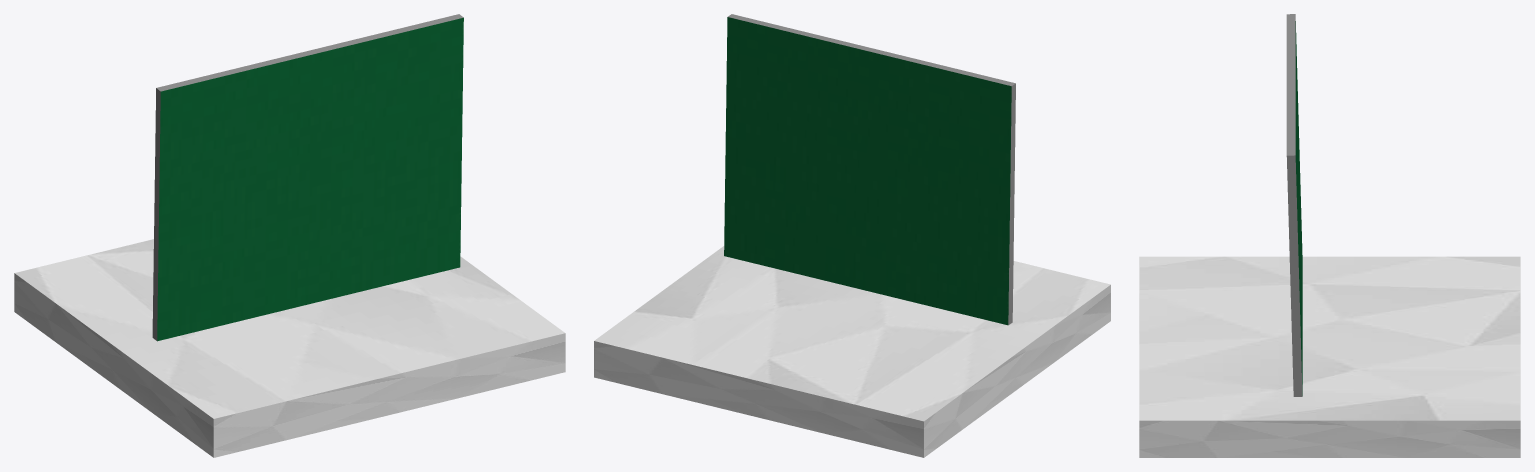
File: CUADRADO.DAE
3 renders of one model, left to right at view 1: azimuth 30°, elevation 25°; view 2: azimuth 150°, elevation 25°; view 3: azimuth 270°, elevation 25°, orthographic. The views are drawn at different scales.
Visible parts, largest first — view 1: Box002, Box001; view 2: Box002, Box001; view 3: Box001, Box002.
Part boxes in pixels (x1,y1,x2,y2): Box002: (152,14,463,341); Box001: (14,239,565,457); Box002: (724,14,1015,325); Box001: (594,246,1110,457); Box001: (1139,256,1520,457); Box002: (1286,14,1302,396).
Size of the model in its own units: 139 by 137 by 115.
Materials: 6 (2 with a texture image).
